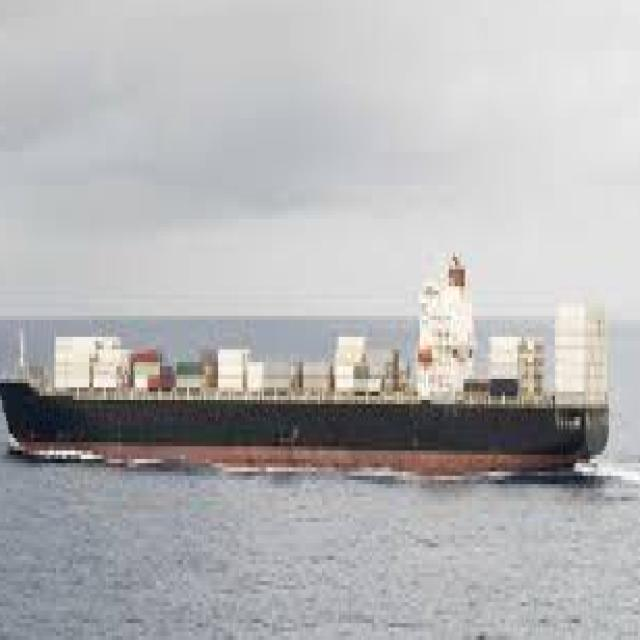cargoship: (4, 247, 608, 473)
